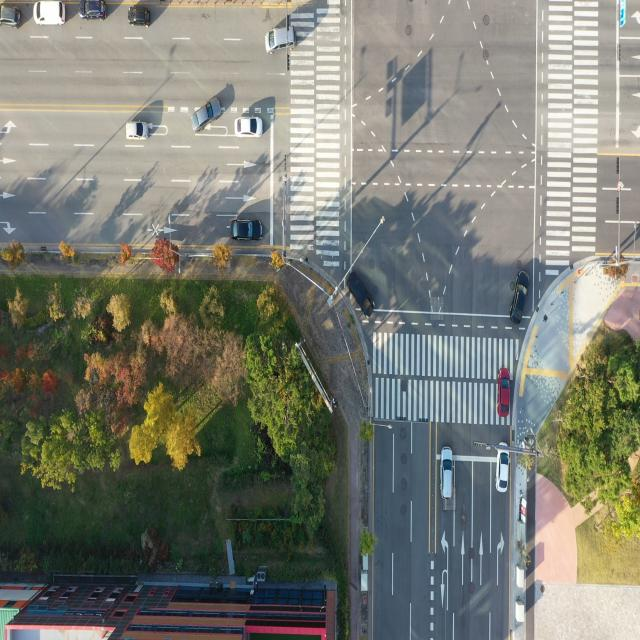car: (507, 269, 533, 327), (343, 270, 375, 317), (32, 0, 66, 30), (194, 98, 223, 132), (268, 26, 298, 54), (442, 446, 456, 502), (497, 364, 511, 419), (232, 218, 262, 242), (79, 0, 107, 22), (496, 449, 509, 493), (126, 9, 152, 31), (235, 115, 262, 136), (0, 6, 23, 30), (126, 119, 148, 142)
